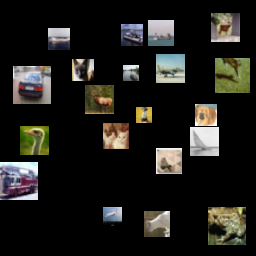airplane: (156, 54, 185, 83), (103, 207, 122, 226)
automobile: (13, 66, 51, 104)
bird: (20, 126, 49, 155), (136, 107, 152, 123)
cat: (215, 58, 250, 93), (156, 148, 182, 174), (103, 123, 129, 149), (144, 211, 170, 237), (72, 59, 94, 81)
deer: (211, 13, 240, 42), (85, 85, 114, 114)
dog: (195, 104, 217, 126)
frog: (208, 207, 246, 245)
ship: (190, 127, 219, 156), (148, 20, 174, 46), (121, 24, 143, 46), (48, 28, 70, 50), (123, 65, 139, 81)
